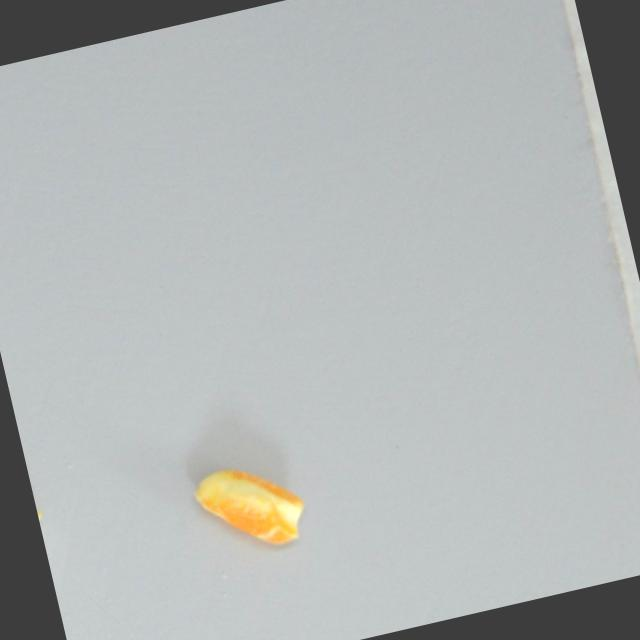pelicula: (179, 444, 315, 571), (31, 487, 62, 572)
